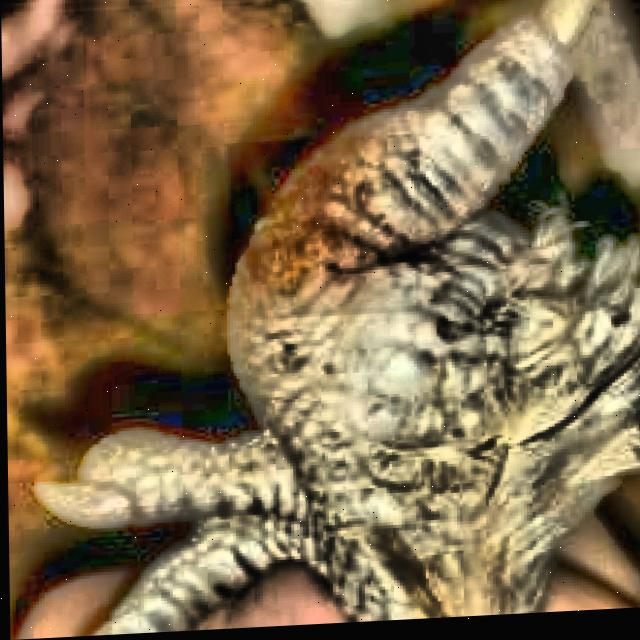Bumble foot: (124, 84, 438, 394)
